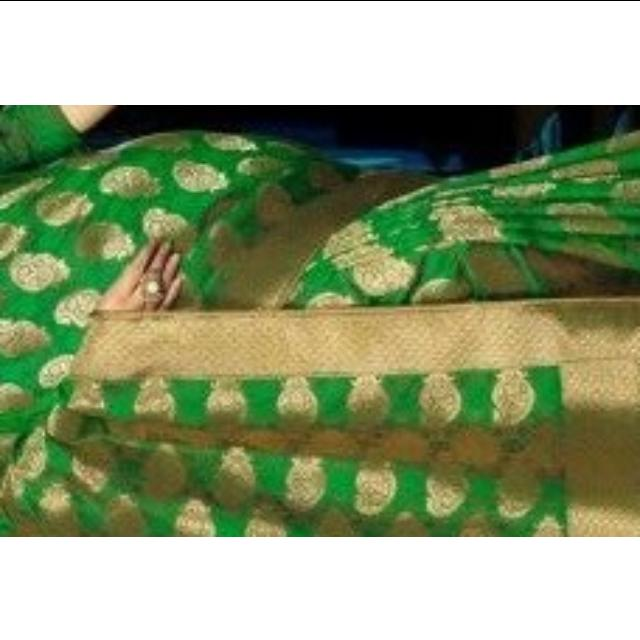polyester: (0, 144, 640, 468)
